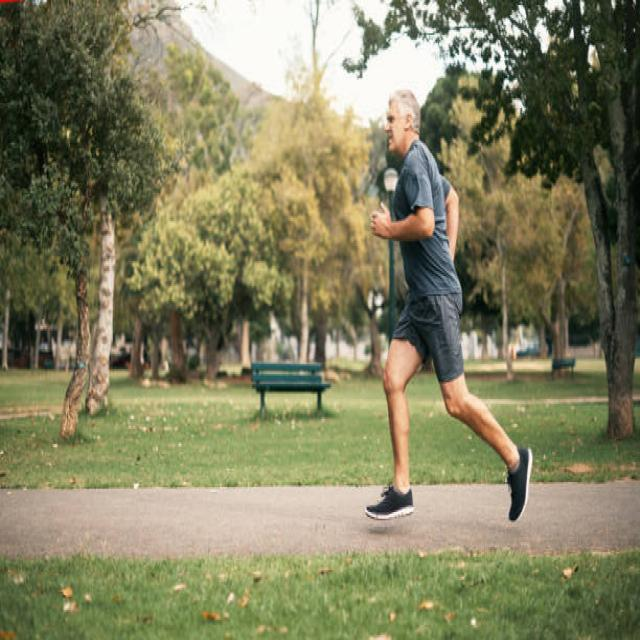Real human 2: (354, 71, 550, 548)
